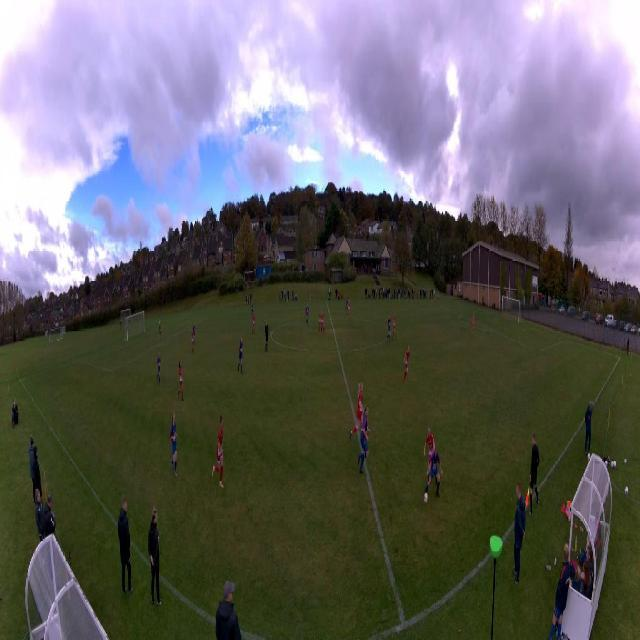ball: (424, 493, 429, 504)
player: (211, 414, 225, 489), (358, 405, 373, 473), (425, 446, 444, 498), (349, 381, 363, 441), (424, 423, 435, 481), (170, 413, 178, 475), (404, 347, 411, 384), (178, 360, 184, 400), (237, 337, 243, 375), (387, 315, 392, 343), (392, 313, 397, 340), (265, 320, 269, 352), (319, 313, 325, 334), (157, 352, 161, 382), (191, 330, 195, 354), (252, 314, 256, 335), (471, 313, 475, 333), (305, 304, 309, 323), (347, 300, 351, 317), (193, 324, 196, 345), (344, 295, 348, 310), (159, 318, 162, 336), (251, 302, 254, 318)
